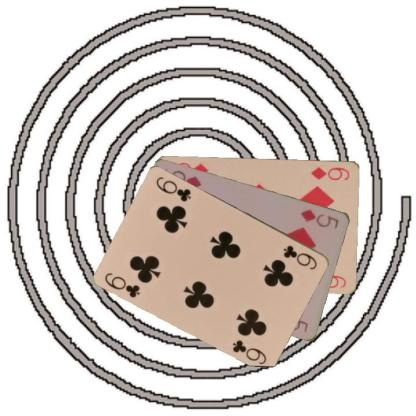5d: (298, 206, 340, 231)
6c: (102, 270, 142, 299), (281, 242, 319, 271)
6d: (308, 164, 350, 182)
